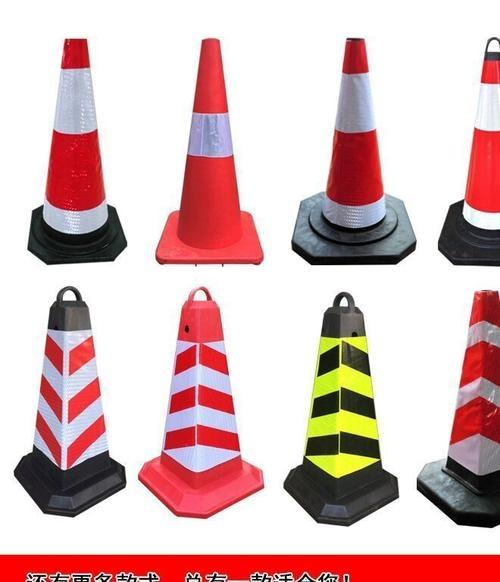cone_barrel: (282, 299, 403, 519), (143, 294, 262, 512), (15, 290, 125, 512), (28, 41, 122, 257), (166, 43, 255, 263), (309, 36, 398, 244), (433, 290, 498, 495), (449, 42, 498, 249)
